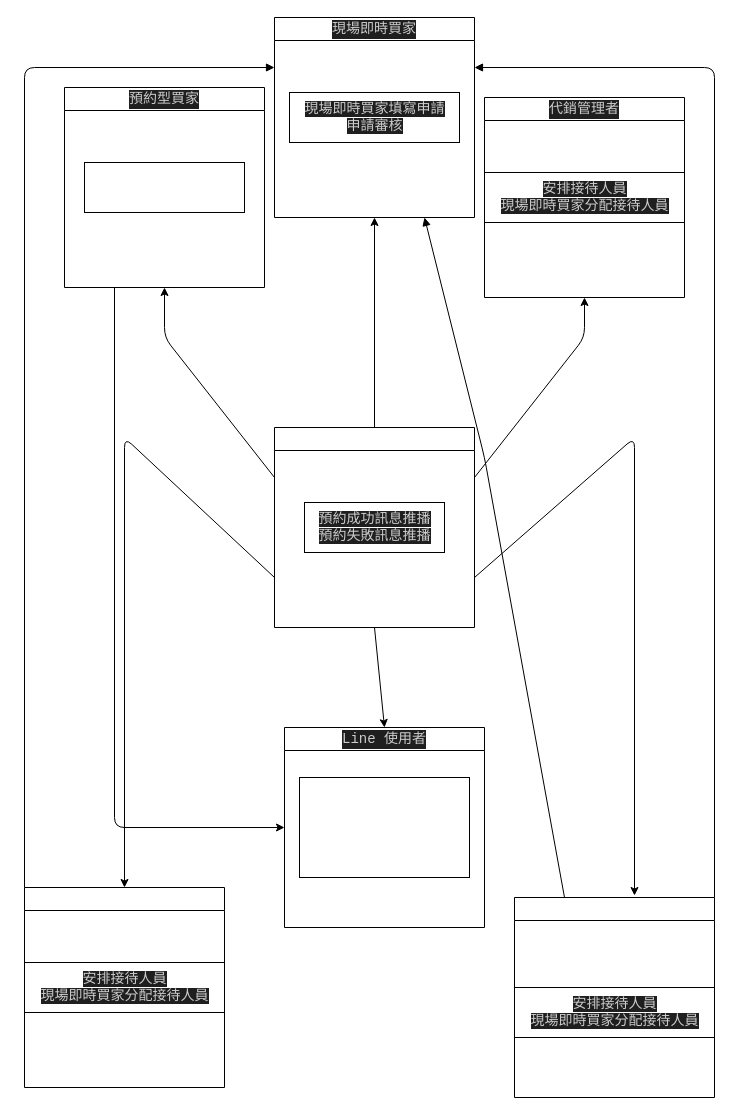
Some shapes in this 740 by 1115 pixel diagram are drawn without their labels. Here are the shapes that lost their labels. From the top down, the box of each, then its label:
(84, 162, 244, 212): 預約型買家填寫申請 申請審核
(274, 426, 474, 628): 綻幣軟體設計
(298, 776, 470, 878): 預約失敗訊息推播 預成功訊息推播 申請審核 現場即時買家填寫申請 預約型買家填寫申請
(24, 886, 224, 1088): 代銷接待人員
(514, 896, 714, 1098): 代銷公司主管
